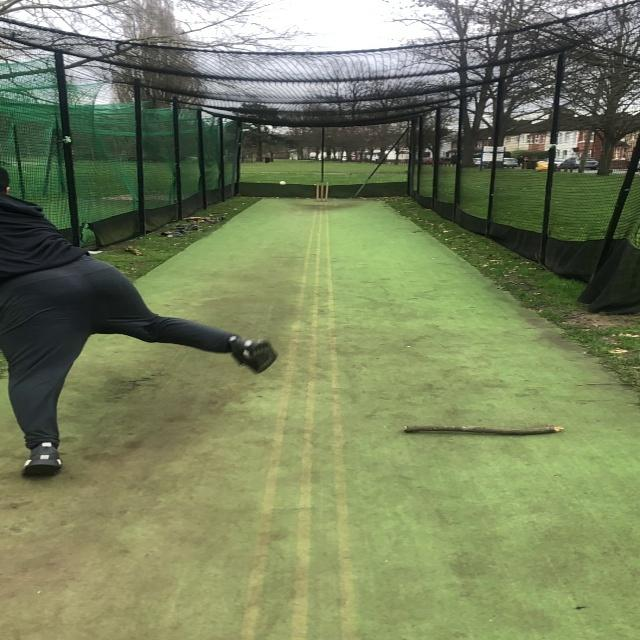ball: (279, 181, 287, 186)
